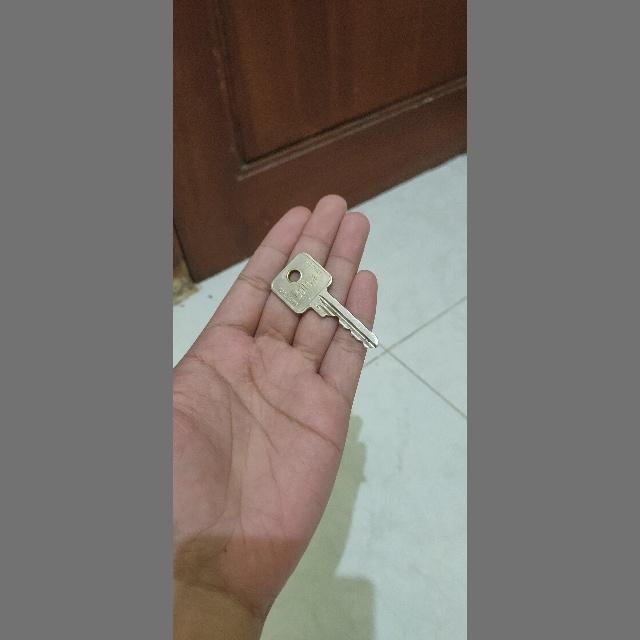Keys: (264, 245, 388, 358)
